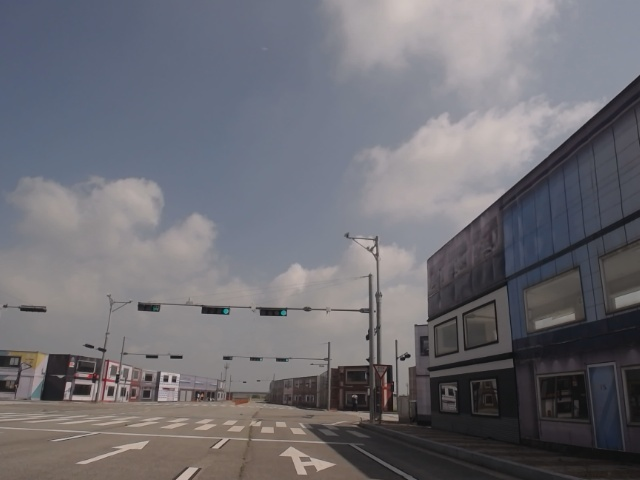straight_green_4: (258, 306, 288, 316), (202, 307, 230, 316)
